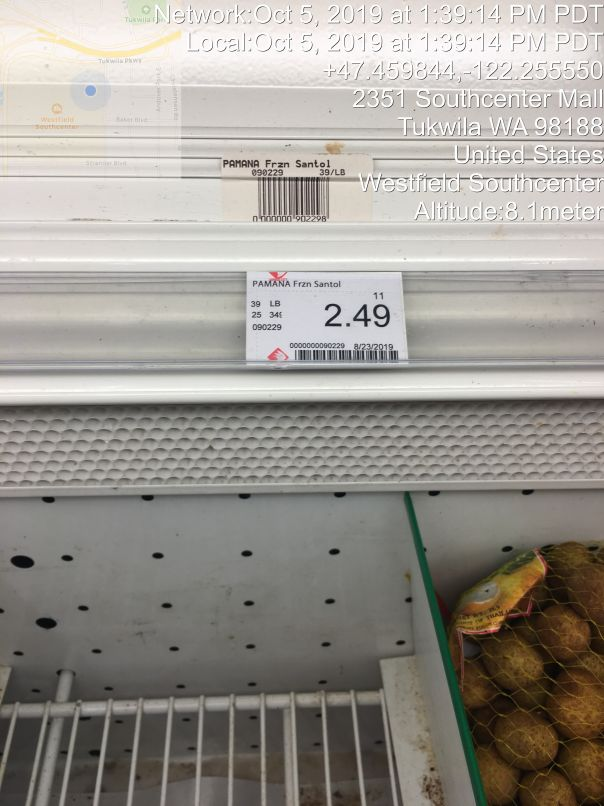Label: (234, 260, 421, 379)
Location: (349, 82, 604, 197)
Time: (147, 1, 604, 54)
Void: (23, 499, 421, 805)
